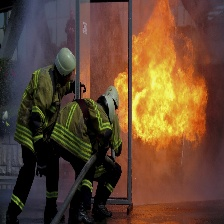fire: (115, 4, 208, 145)
